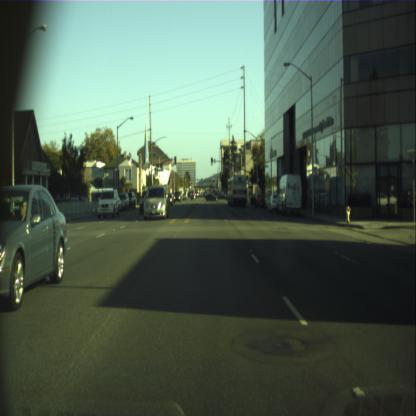Green: (210, 156, 212, 165), (246, 175, 248, 183)
